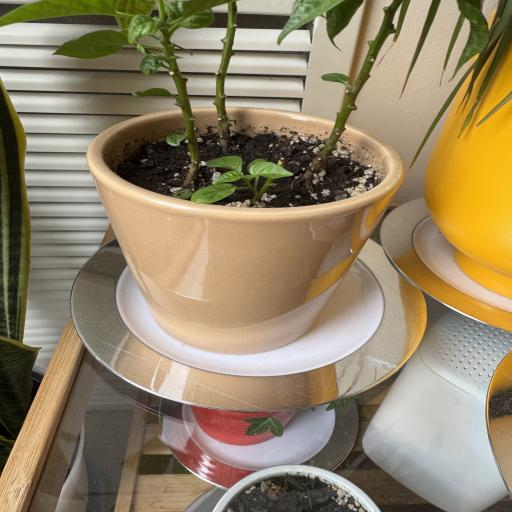Plant Pot: (83, 109, 399, 345), (414, 14, 512, 295), (212, 460, 386, 511), (194, 397, 293, 448)
